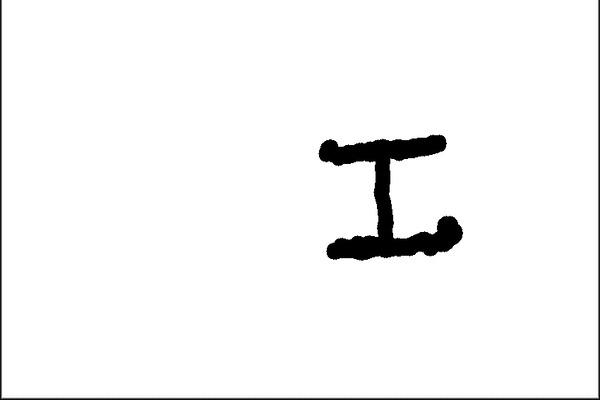i: (301, 131, 474, 276)
